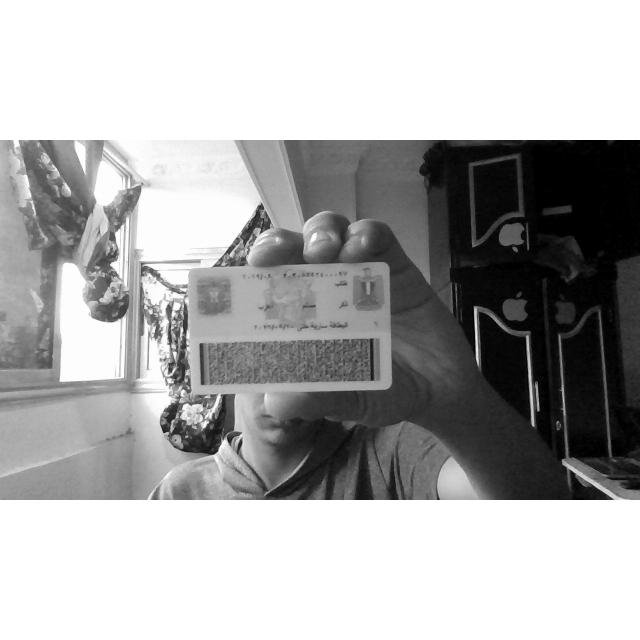id_card: (178, 262, 390, 394)
